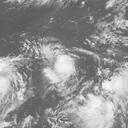cyclone: (43, 54, 80, 88)
